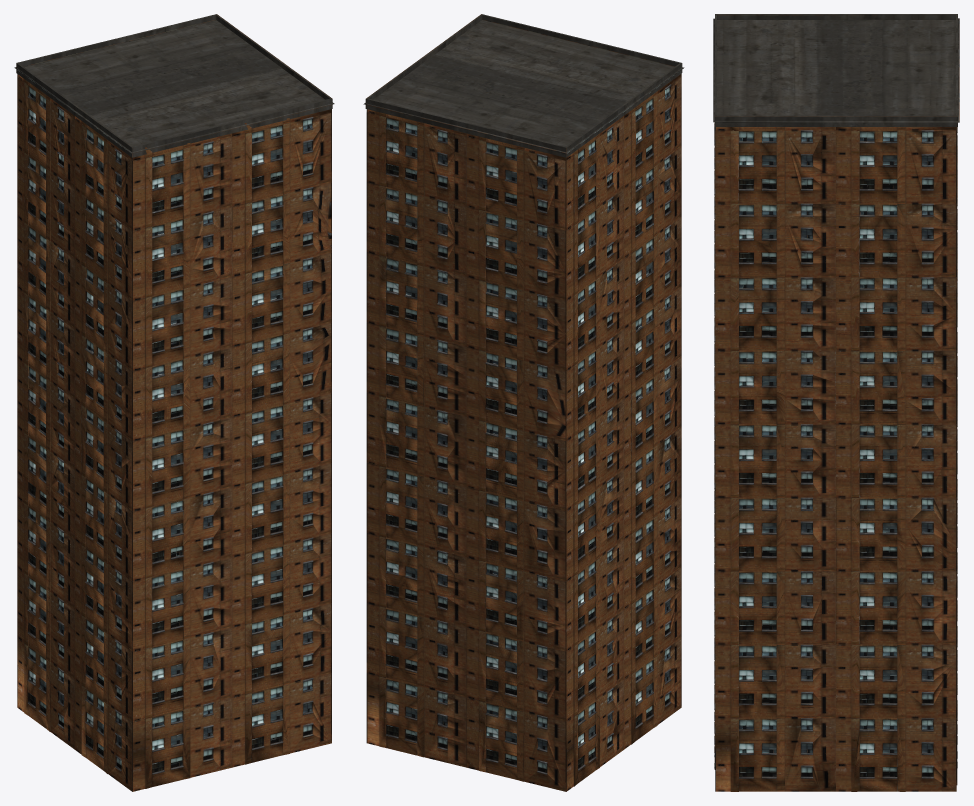
3 views of the same model, side by side, from view 1: azimuth 30°, elevation 25°; view 2: azimuth 150°, elevation 25°; view 3: azimuth 270°, elevation 25° (orthographic). The views are drawn at different scales.
Parts seen in each view (by area): view 1: Building-Big-01-BAKED.001; view 2: Building-Big-01-BAKED.001; view 3: Building-Big-01-BAKED.001.
Part boxes in pixels (x1,y1,x2,y2): Building-Big-01-BAKED.001: (14,14,334,791); Building-Big-01-BAKED.001: (363,14,684,791); Building-Big-01-BAKED.001: (713,14,959,791).
Bounding box in the file's own units: 23.18 × 70.16 × 23.18.
1 material, 1 textured.
